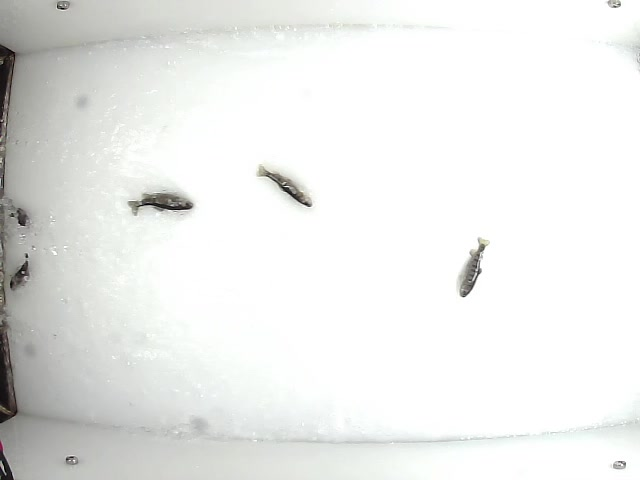fish: (252, 161, 314, 207), (456, 237, 490, 300), (126, 190, 193, 217), (7, 251, 31, 292)
